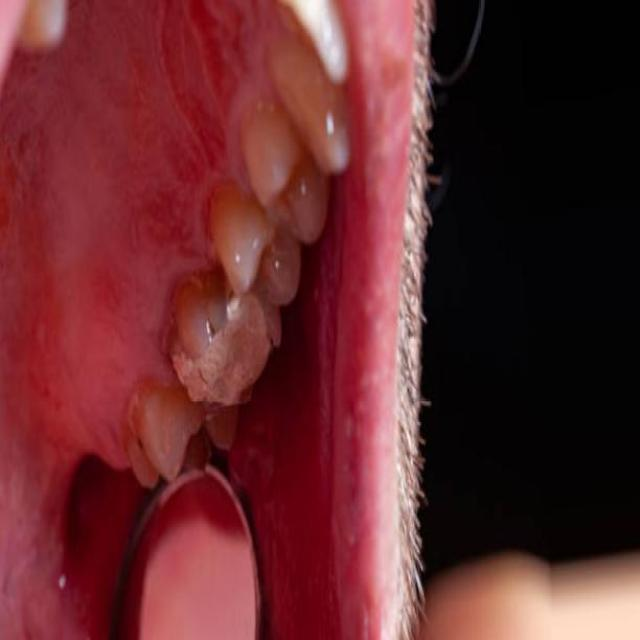caries: (163, 272, 279, 416)
